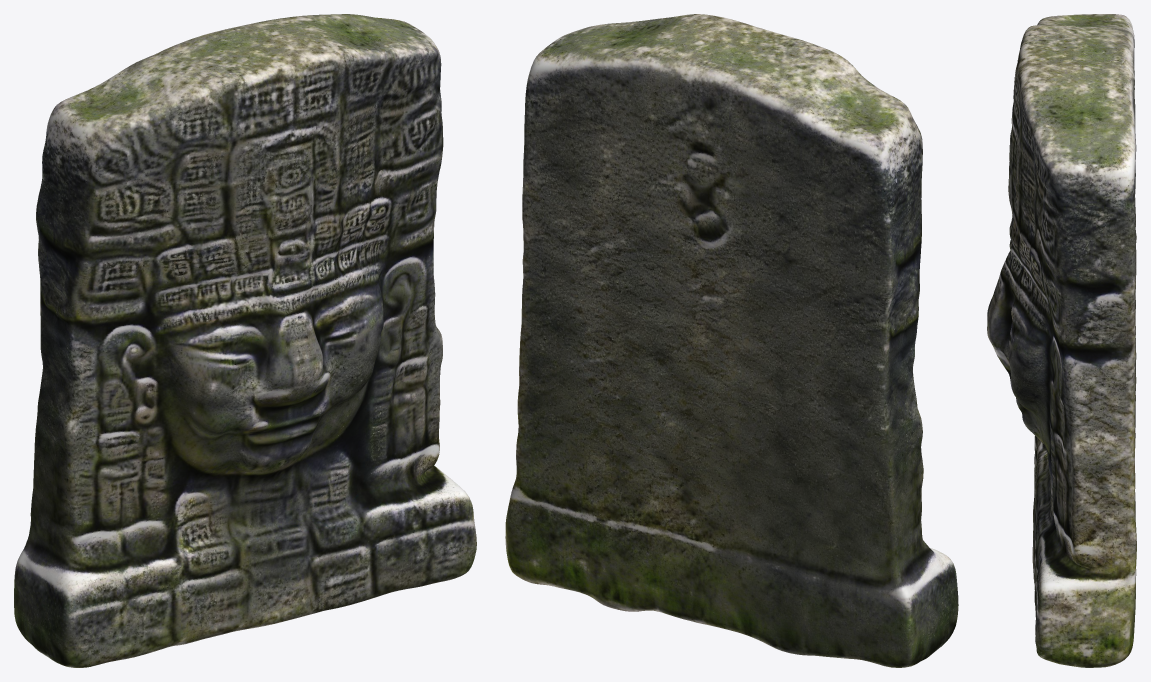
File: Estatue3.fbx
3 renders of one model, left to right at view 1: azimuth 30°, elevation 25°; view 2: azimuth 150°, elevation 25°; view 3: azimuth 270°, elevation 25°, orthographic. The views are drawn at different scales.
Visible parts, largest first — view 1: Object_5; view 2: Object_5; view 3: Object_5.
Boxes of the visible parts, <box> form: Object_5: <box>14,14,476,667</box>; Object_5: <box>505,14,958,667</box>; Object_5: <box>987,14,1136,667</box>.
Bounding box in the file's own units: 123 × 41.46 × 161.
1 material, 1 textured.
